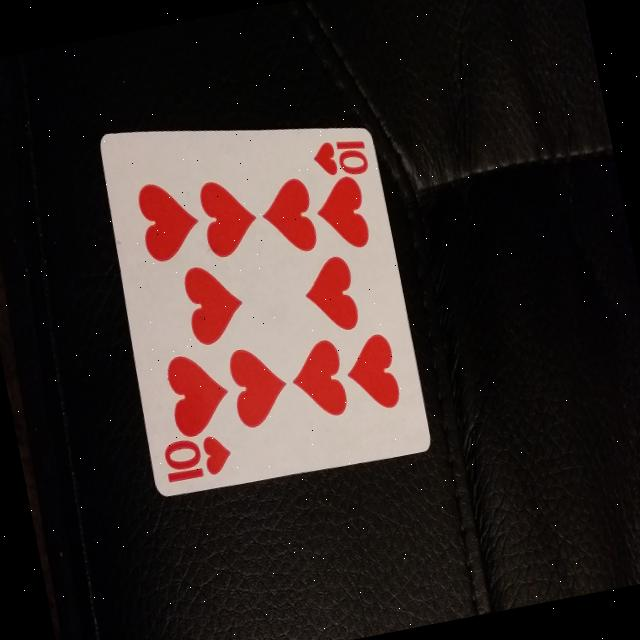10h: (154, 418, 241, 498), (304, 124, 380, 190)
